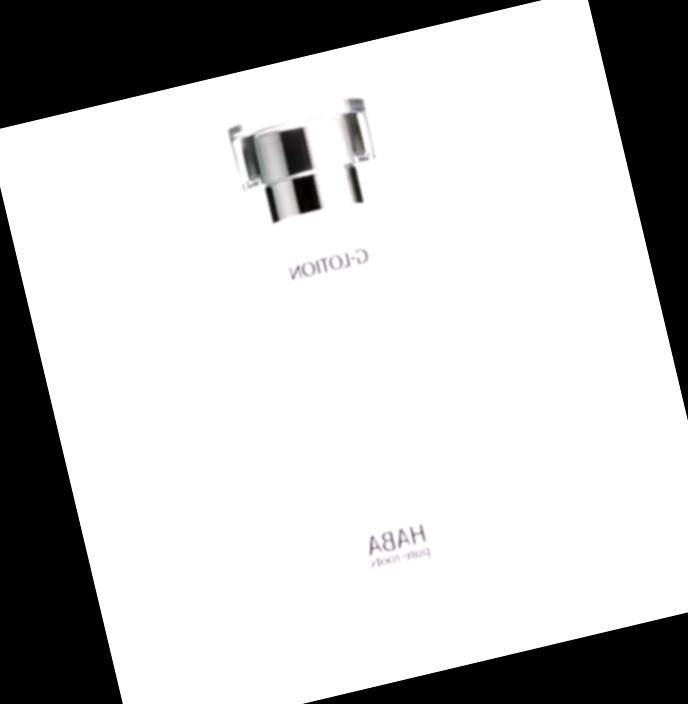cosmetic: (217, 92, 493, 653)
